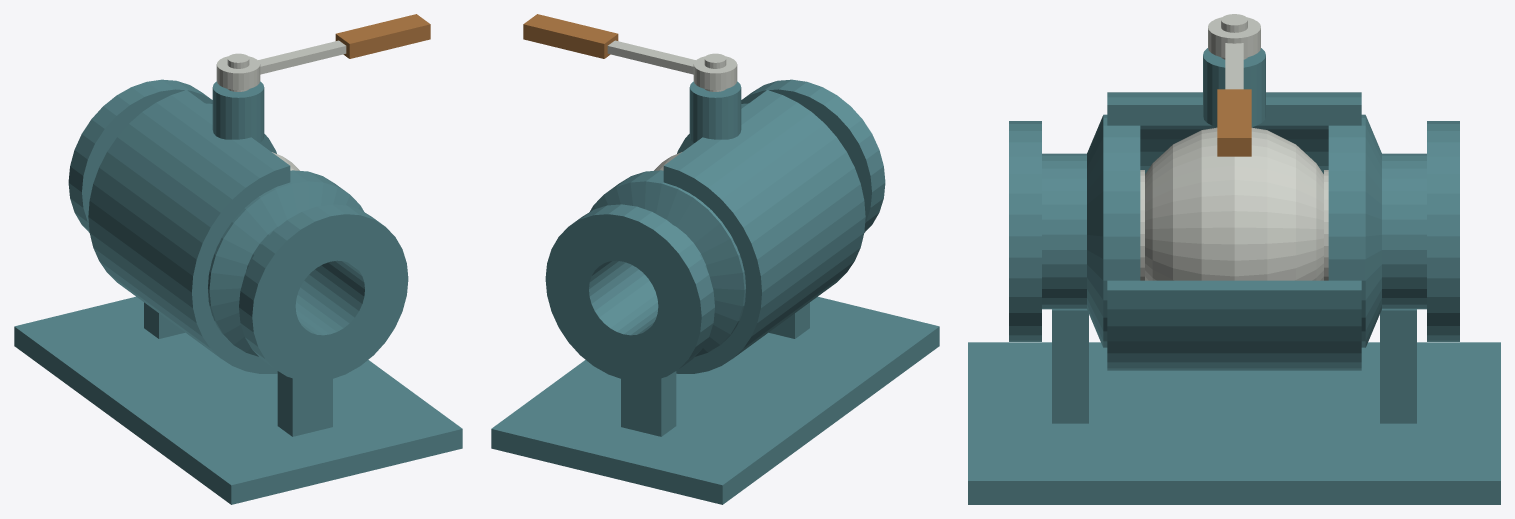
The picture shows the model from 3 angles, left to right: view 1: azimuth 30°, elevation 25°; view 2: azimuth 150°, elevation 25°; view 3: azimuth 270°, elevation 25°; orthographic projection. The views are drawn at different scales.
Visible parts, largest first — view 1: WholeFiniteDisplayBase, WholeOpenConnectorAndSeat-1, WholeQuarterCutawayThickBodyShell, WholeOpenConnectorAndSeat1, WholeConnectorSupport-1, WholeNeckAndStemCollar, WholeThickEndGrip, WholeLongFixedLever, WholeHandleRoot, WholeConnectorSupport1; view 2: WholeFiniteDisplayBase, WholeOpenConnectorAndSeat1, WholeQuarterCutawayThickBodyShell, WholeOpenConnectorAndSeat-1, WholeConnectorSupport1, WholeNeckAndStemCollar, WholeThickEndGrip, WholeLongFixedLever, WholeHandleRoot, WholeConnectorSupport-1; view 3: WholeFiniteDisplayBase, WholeQuarterCutawayThickBodyShell, WholeTrueThroughBoredSphericalClosure, WholeOpenConnectorAndSeat-1, WholeOpenConnectorAndSeat1, WholeConnectorSupport-1, WholeConnectorSupport1, WholeNeckAndStemCollar, WholeThickEndGrip, WholeHandleRoot, WholeLongFixedLever.
Part boxes in pixels (left/top/right/bottom): WholeFiniteDisplayBase: left=14, top=296, right=462, bottom=504; WholeOpenConnectorAndSeat-1: left=208, top=170, right=408, bottom=381; WholeQuarterCutawayThickBodyShell: left=88, top=90, right=290, bottom=373; WholeOpenConnectorAndSeat1: left=68, top=79, right=276, bottom=232; WholeConnectorSupport-1: left=277, top=371, right=332, bottom=436; WholeNeckAndStemCollar: left=212, top=81, right=264, bottom=142; WholeThickEndGrip: left=335, top=14, right=430, bottom=58; WholeLongFixedLever: left=258, top=40, right=346, bottom=74; WholeHandleRoot: left=216, top=56, right=260, bottom=89; WholeConnectorSupport1: left=144, top=302, right=184, bottom=338; WholeFiniteDisplayBase: left=491, top=296, right=939, bottom=504; WholeOpenConnectorAndSeat1: left=545, top=170, right=745, bottom=381; WholeQuarterCutawayThickBodyShell: left=663, top=90, right=865, bottom=373; WholeOpenConnectorAndSeat-1: left=677, top=79, right=885, bottom=232; WholeConnectorSupport1: left=621, top=371, right=676, bottom=436; WholeNeckAndStemCollar: left=689, top=81, right=741, bottom=142; WholeThickEndGrip: left=523, top=14, right=618, bottom=58; WholeLongFixedLever: left=607, top=40, right=695, bottom=74; WholeHandleRoot: left=693, top=56, right=737, bottom=89; WholeConnectorSupport-1: left=769, top=302, right=809, bottom=338; WholeFiniteDisplayBase: left=968, top=342, right=1500, bottom=504; WholeQuarterCutawayThickBodyShell: left=1107, top=92, right=1361, bottom=370; WholeTrueThroughBoredSphericalClosure: left=1145, top=127, right=1323, bottom=280; WholeOpenConnectorAndSeat-1: left=1009, top=114, right=1140, bottom=347; WholeOpenConnectorAndSeat1: left=1328, top=114, right=1459, bottom=347; WholeConnectorSupport-1: left=1052, top=309, right=1088, bottom=423; WholeConnectorSupport1: left=1380, top=309, right=1416, bottom=423; WholeNeckAndStemCollar: left=1203, top=48, right=1265, bottom=126; WholeThickEndGrip: left=1217, top=89, right=1251, bottom=156; WholeHandleRoot: left=1208, top=17, right=1260, bottom=57; WholeLongFixedLever: left=1225, top=43, right=1243, bottom=89.
Bounding box in the file's own units: 1.04 × 1.12 × 1.3.
